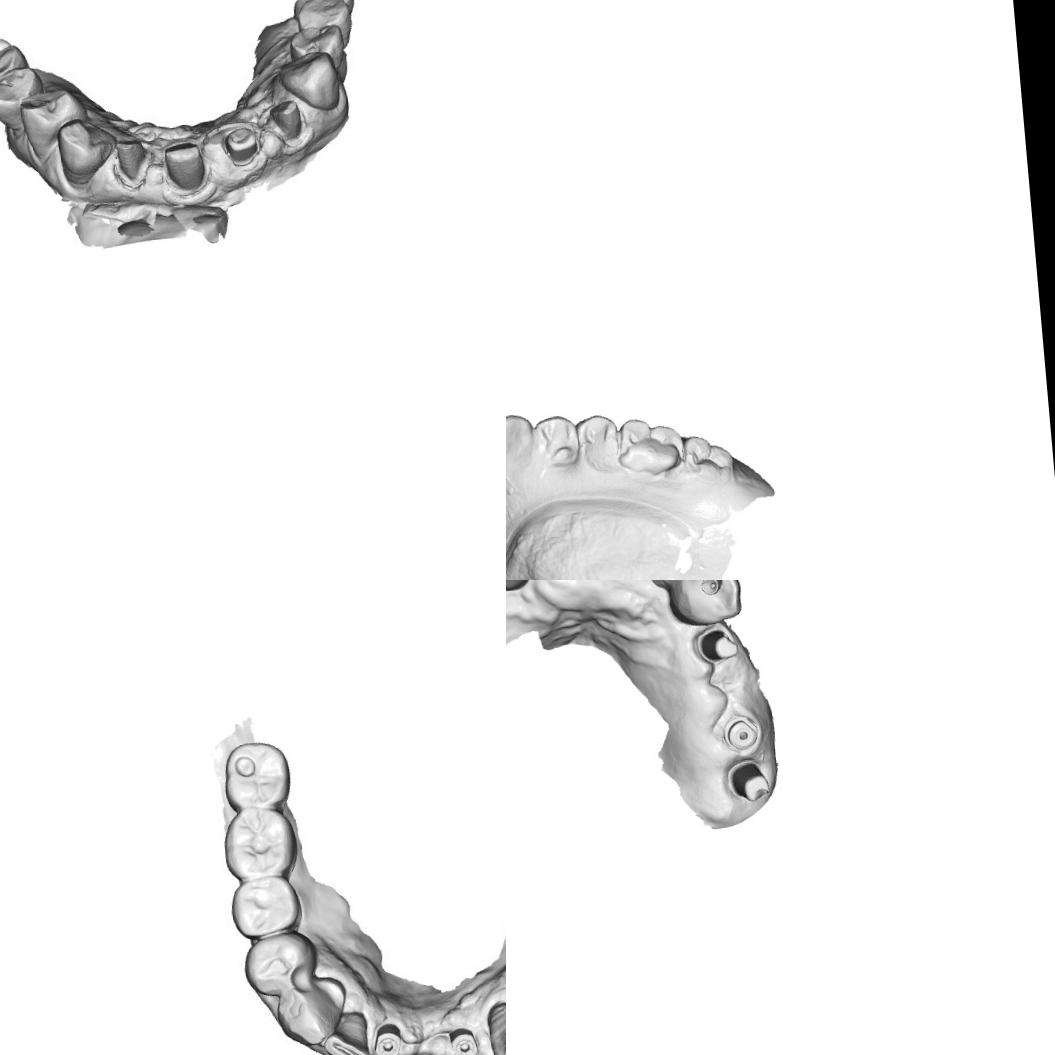abutment: (689, 621, 742, 666), (725, 756, 773, 803)
canine: (274, 978, 347, 1047), (54, 114, 120, 187), (274, 47, 341, 114), (668, 580, 745, 626), (506, 410, 537, 469), (482, 999, 506, 1055)
crown: (161, 137, 210, 194), (265, 96, 307, 148), (114, 134, 148, 184)
implant: (220, 124, 261, 166), (720, 713, 760, 752)
implant_plus: (443, 1023, 484, 1055), (372, 1024, 407, 1055)
incisor: (322, 1008, 375, 1055)
molar: (220, 801, 297, 885), (215, 735, 293, 815), (612, 410, 689, 478), (676, 426, 740, 486), (0, 43, 31, 93)
premolar: (238, 928, 318, 999), (17, 85, 90, 159), (230, 874, 298, 940), (534, 407, 588, 472), (0, 62, 47, 133), (285, 22, 346, 74), (294, 0, 353, 51), (575, 409, 620, 465)
